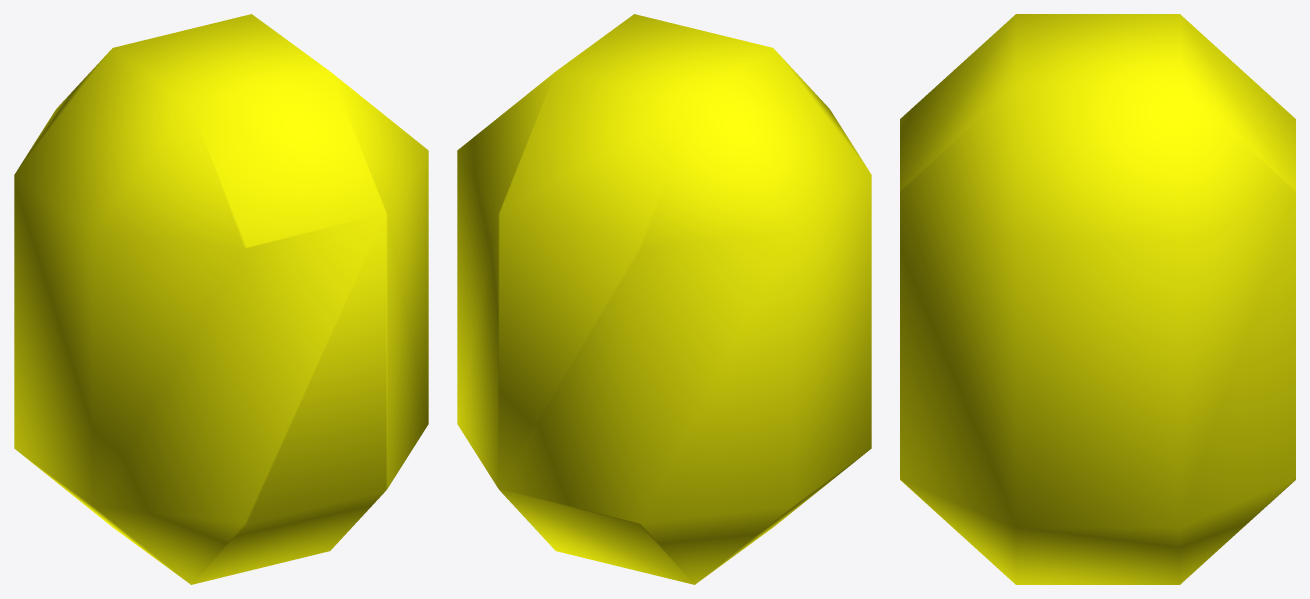
Rendered from A0509_2_2.bbox.gltf.
3 renders of one model, left to right at view 1: azimuth 30°, elevation 25°; view 2: azimuth 150°, elevation 25°; view 3: azimuth 270°, elevation 25°, orthographic. The views are drawn at different scales.
Parts seen in each view (by area): view 1: A0509_2_2.bbox; view 2: A0509_2_2.bbox; view 3: A0509_2_2.bbox.
Boxes of the visible parts, x1,y1,x2,y2 form: A0509_2_2.bbox: (14,14,428,584); A0509_2_2.bbox: (457,14,871,584); A0509_2_2.bbox: (900,14,1295,584).
Bounding box in the file's own units: 125 × 170 × 122.
